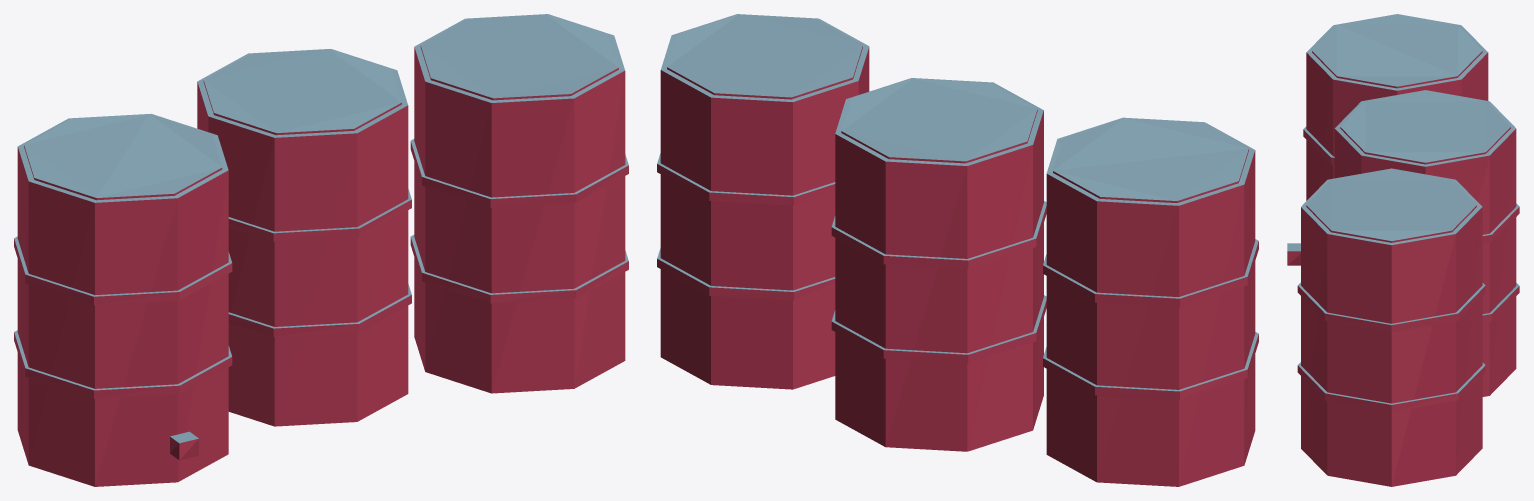
The model's file is barrel-01.glb.
3 renders of one model, left to right at view 1: azimuth 30°, elevation 25°; view 2: azimuth 150°, elevation 25°; view 3: azimuth 270°, elevation 25°, orthographic. The views are drawn at different scales.
Parts seen in each view (by area): view 1: barrel_01; view 2: barrel_01; view 3: barrel_01.
Part boxes in pixels (x1,y1,x2,y2): barrel_01: [14, 14, 628, 486]; barrel_01: [657, 14, 1258, 486]; barrel_01: [1287, 14, 1519, 486].
Size of the model in its own units: 1.79 by 0.8515 by 0.7359.
